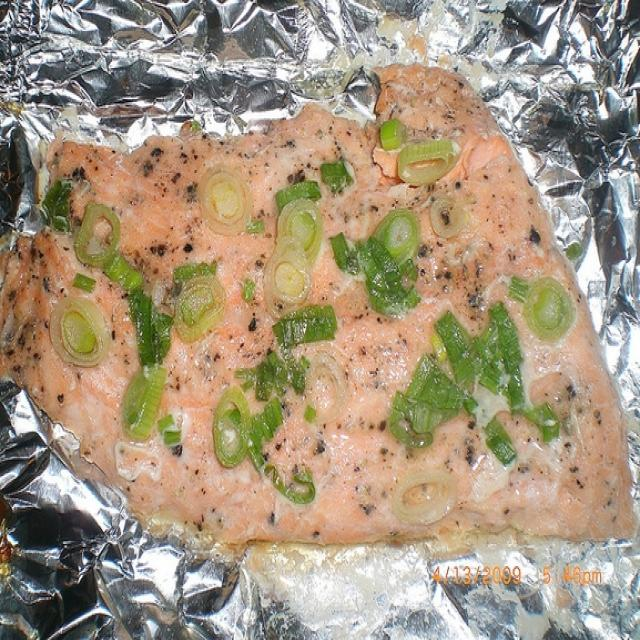熟制海鲜: (13, 53, 629, 594)
